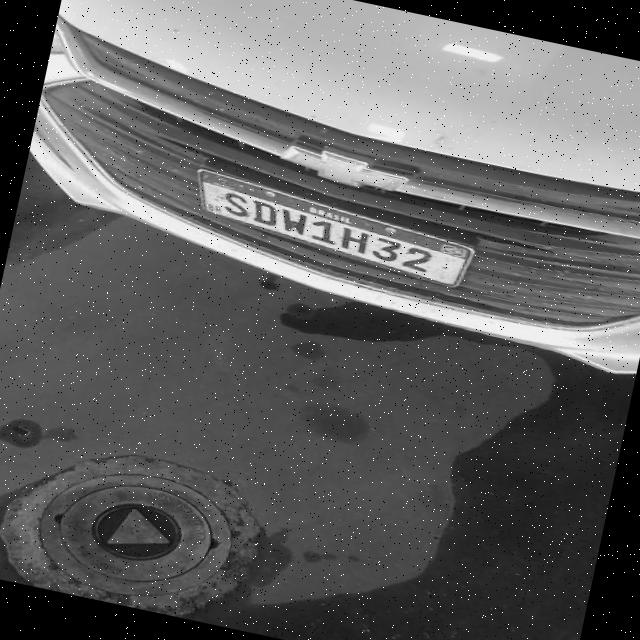placa_mercosul: (198, 169, 473, 286)
